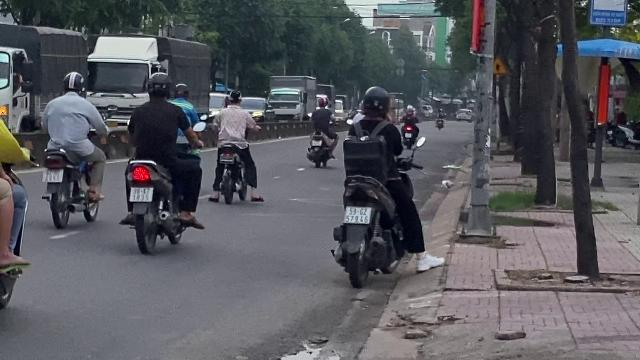helmet: (359, 86, 391, 118), (144, 72, 170, 100), (60, 71, 84, 95)
licenseplate: (344, 206, 370, 222), (130, 187, 152, 201), (44, 169, 62, 181)
motorcyclist: (330, 84, 426, 286), (116, 69, 204, 253), (36, 71, 108, 229), (210, 88, 262, 204)
nohelmet: (225, 89, 243, 105)
